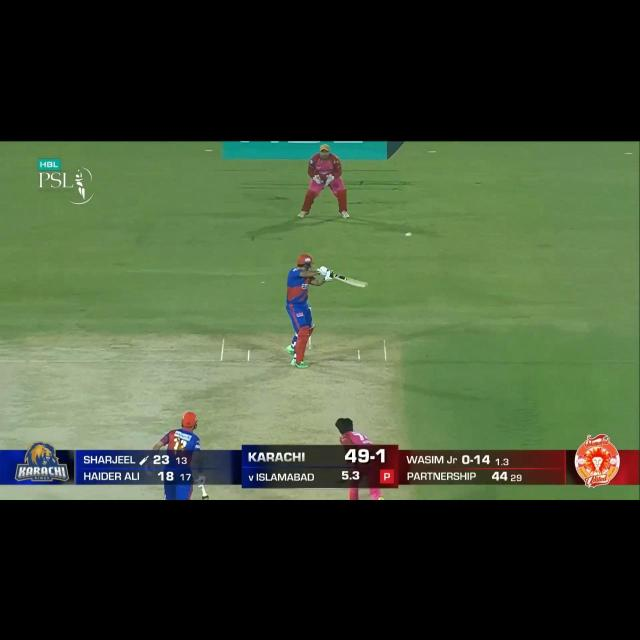bat: (326, 271, 367, 288)
toe: (357, 281, 369, 288)
